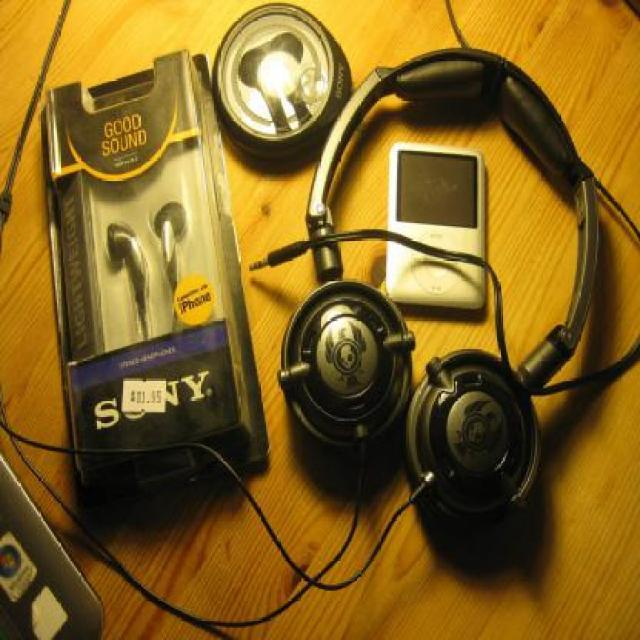earphone: (298, 42, 598, 533), (92, 184, 186, 348)
